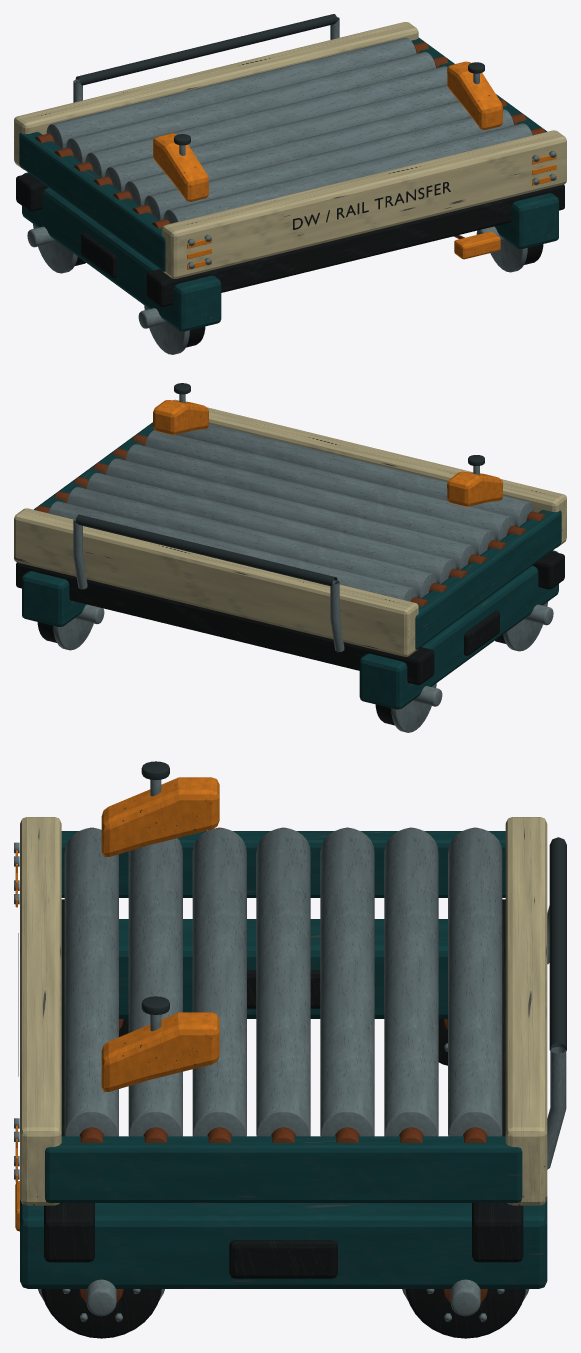
The model's file is marrow-rail-transfer.glb.
3 renders of one model, top to bottom at view 1: azimuth 30°, elevation 25°; view 2: azimuth 150°, elevation 25°; view 3: azimuth 270°, elevation 25°, orthographic. The views are drawn at different scales.
Parts seen in each view (by area): view 1: marrow-rail-transfer | Machined steel, marrow-rail-transfer | Aged ivory enamel, marrow-rail-transfer | Petrol enamel, marrow-rail-transfer | Cast graphite iron, marrow-rail-transfer | Warning ochre, marrow-rail-transfer | Black rubber and ink, marrow-rail-transfer | Copper ink plumbing; view 2: marrow-rail-transfer | Machined steel, marrow-rail-transfer | Aged ivory enamel, marrow-rail-transfer | Petrol enamel, marrow-rail-transfer | Cast graphite iron, marrow-rail-transfer | Warning ochre, marrow-rail-transfer | Black rubber and ink, marrow-rail-transfer | Copper ink plumbing; view 3: marrow-rail-transfer | Machined steel, marrow-rail-transfer | Petrol enamel, marrow-rail-transfer | Aged ivory enamel, marrow-rail-transfer | Cast graphite iron, marrow-rail-transfer | Warning ochre, marrow-rail-transfer | Black rubber and ink, marrow-rail-transfer | Copper ink plumbing.
Boxes of the visible parts, x1=… form: marrow-rail-transfer | Machined steel: x1=27, y1=17, x2=556, y2=354; marrow-rail-transfer | Aged ivory enamel: x1=14, y1=22, x2=566, y2=278; marrow-rail-transfer | Petrol enamel: x1=19, y1=37, x2=558, y2=331; marrow-rail-transfer | Cast graphite iron: x1=16, y1=173, x2=564, y2=347; marrow-rail-transfer | Warning ochre: x1=153, y1=61, x2=556, y2=269; marrow-rail-transfer | Black rubber and ink: x1=75, y1=14, x2=484, y2=145; marrow-rail-transfer | Copper ink plumbing: x1=35, y1=42, x2=544, y2=238; marrow-rail-transfer | Machined steel: x1=48, y1=394, x2=553, y2=732; marrow-rail-transfer | Aged ivory enamel: x1=14, y1=399, x2=566, y2=656; marrow-rail-transfer | Petrol enamel: x1=22, y1=422, x2=561, y2=709; marrow-rail-transfer | Cast graphite iron: x1=16, y1=551, x2=564, y2=725; marrow-rail-transfer | Warning ochre: x1=153, y1=400, x2=502, y2=506; marrow-rail-transfer | Black rubber and ink: x1=75, y1=383, x2=484, y2=586; marrow-rail-transfer | Copper ink plumbing: x1=36, y1=424, x2=545, y2=606; marrow-rail-transfer | Machined steel: x1=14, y1=779, x2=566, y2=1321; marrow-rail-transfer | Petrol enamel: x1=20, y1=831, x2=547, y2=1288; marrow-rail-transfer | Aged ivory enamel: x1=20, y1=817, x2=547, y2=1205; marrow-rail-transfer | Cast graphite iron: x1=18, y1=899, x2=525, y2=1338; marrow-rail-transfer | Warning ochre: x1=15, y1=777, x2=219, y2=1231; marrow-rail-transfer | Black rubber and ink: x1=141, y1=761, x2=566, y2=1050; marrow-rail-transfer | Copper ink plumbing: x1=79, y1=827, x2=487, y2=1302.
Size of the model in its own units: 2.41 by 1.1 by 1.73.
Materials: 7 (6 with a texture image).
